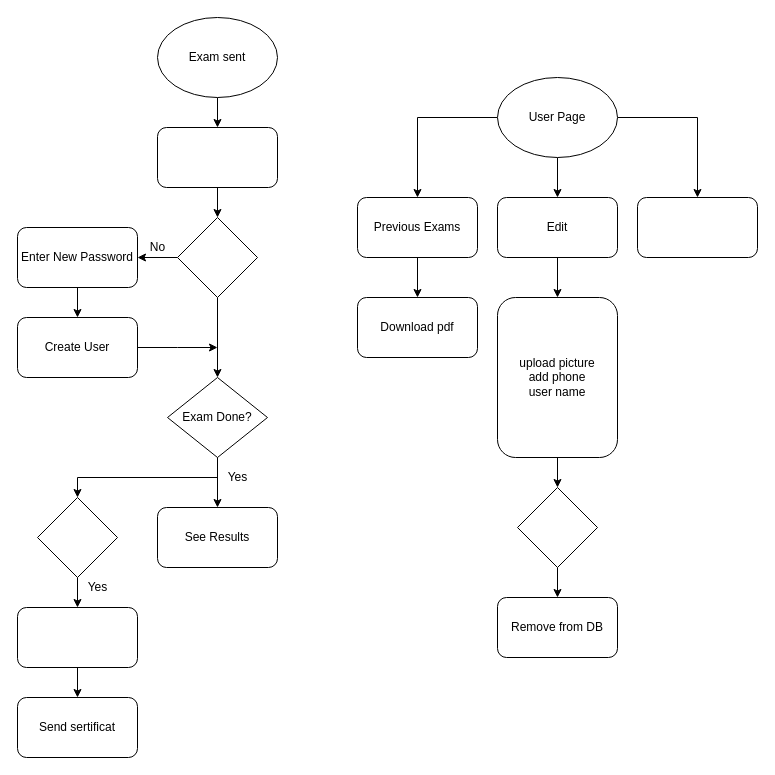
Some shapes in this 775 by 775 pixel diagram are drawn without their labels. The box of each missing label's shape, as (x1, y1, x2, y2) in pixels:
Delete?: (516, 486, 598, 568)
Follow link: (156, 126, 278, 188)
Pass?: (36, 496, 118, 578)
Subscribe to Exam: (636, 196, 758, 258)
Update user: (16, 606, 138, 668)
User?: (176, 216, 258, 298)
